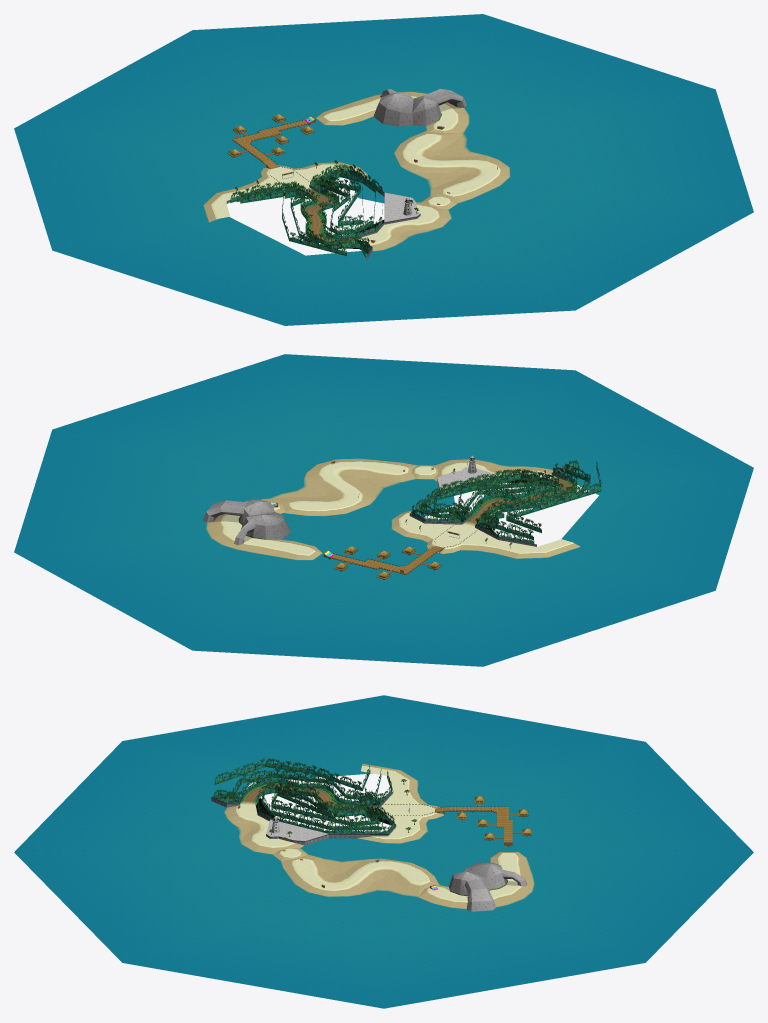
Rendered from beach_course-beach_course.glb.
3 renders of one model, top to bottom at view 1: azimuth 30°, elevation 25°; view 2: azimuth 150°, elevation 25°; view 3: azimuth 270°, elevation 25°, orthographic. The views are drawn at different scales.
Parts seen in each view (by area): view 1: beach_course; view 2: beach_course; view 3: beach_course.
Part boxes in pixels (x1=…): beach_course: x1=14, y1=14, x2=753, y2=325; beach_course: x1=14, y1=354, x2=753, y2=666; beach_course: x1=14, y1=695, x2=753, y2=1008.
Bounding box in the file's own units: 862 × 28.81 × 862.
18 materials, 18 textured.
